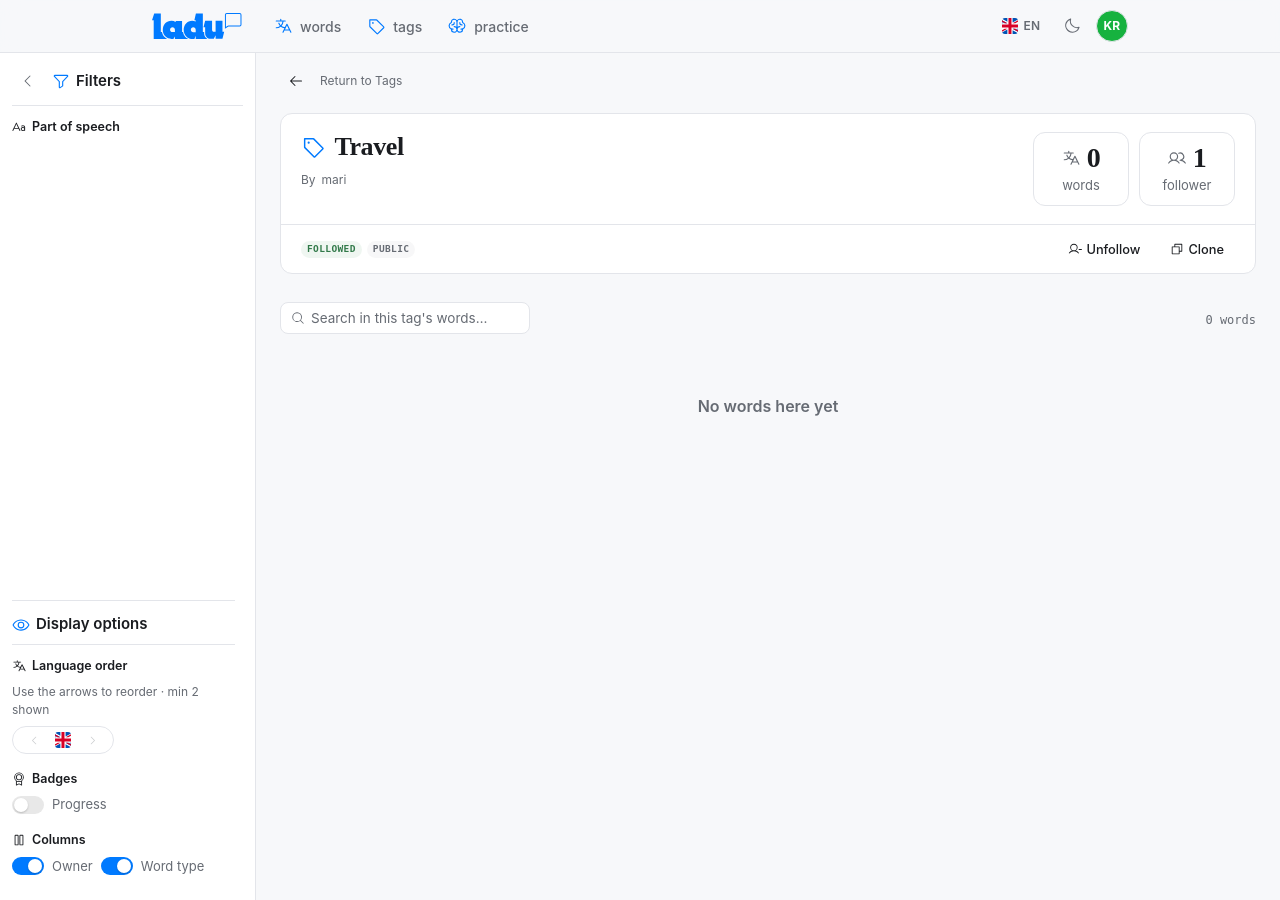
it: TagViewPage — followed tag › unfollowing asks for confirmation, then updates the relation to Discover
Expected: the text "Followed" is shown, x1=301 y1=241 x2=362 y2=258
Click the button "Unfollow": (1104, 249) x1=1057 y1=235 x2=1151 y2=263
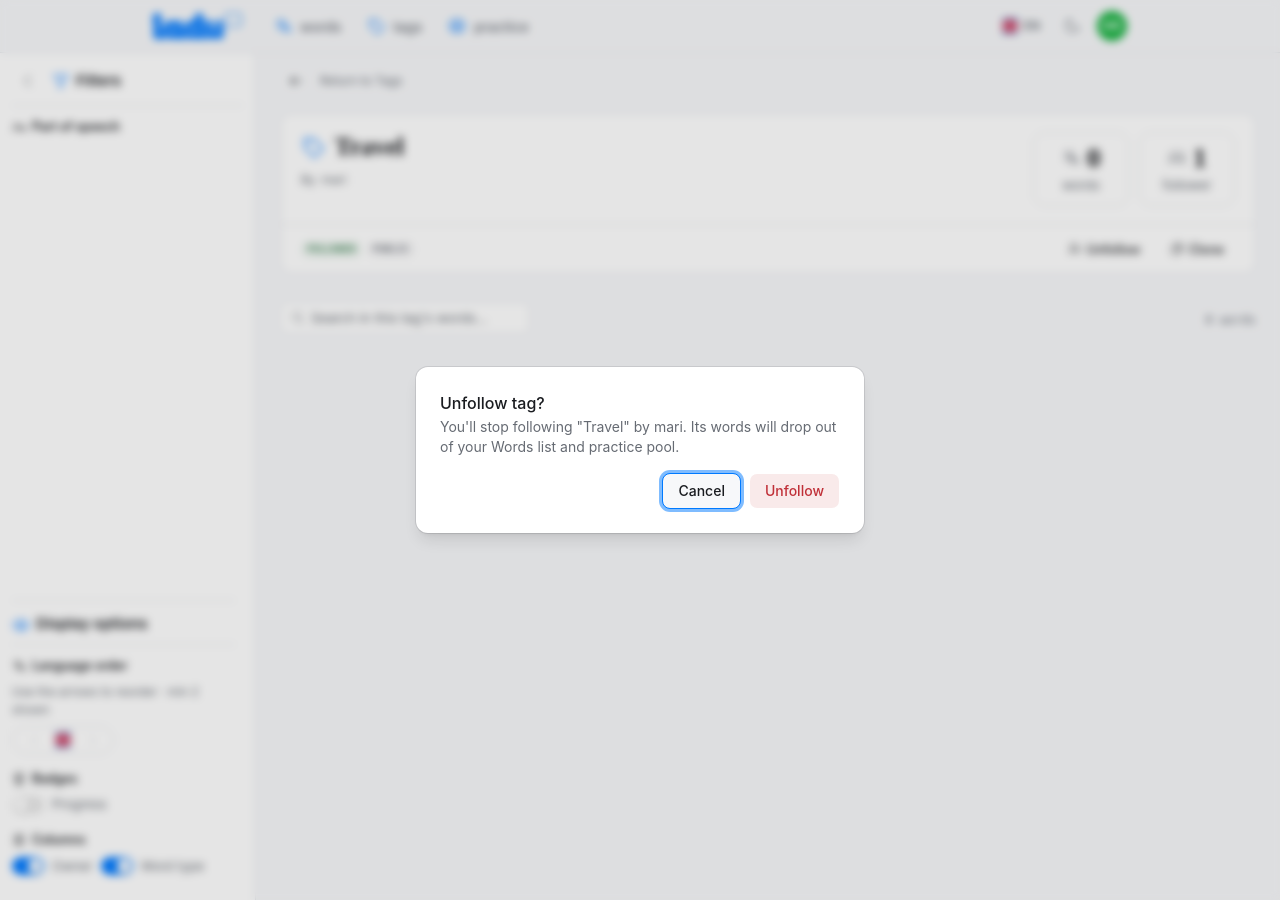
Now the heading "Unfollow tag?" is shown, box x1=440 y1=393 x2=545 y2=413
Click the button "Unfollow": (794, 491) x1=749 y1=473 x2=840 y2=509
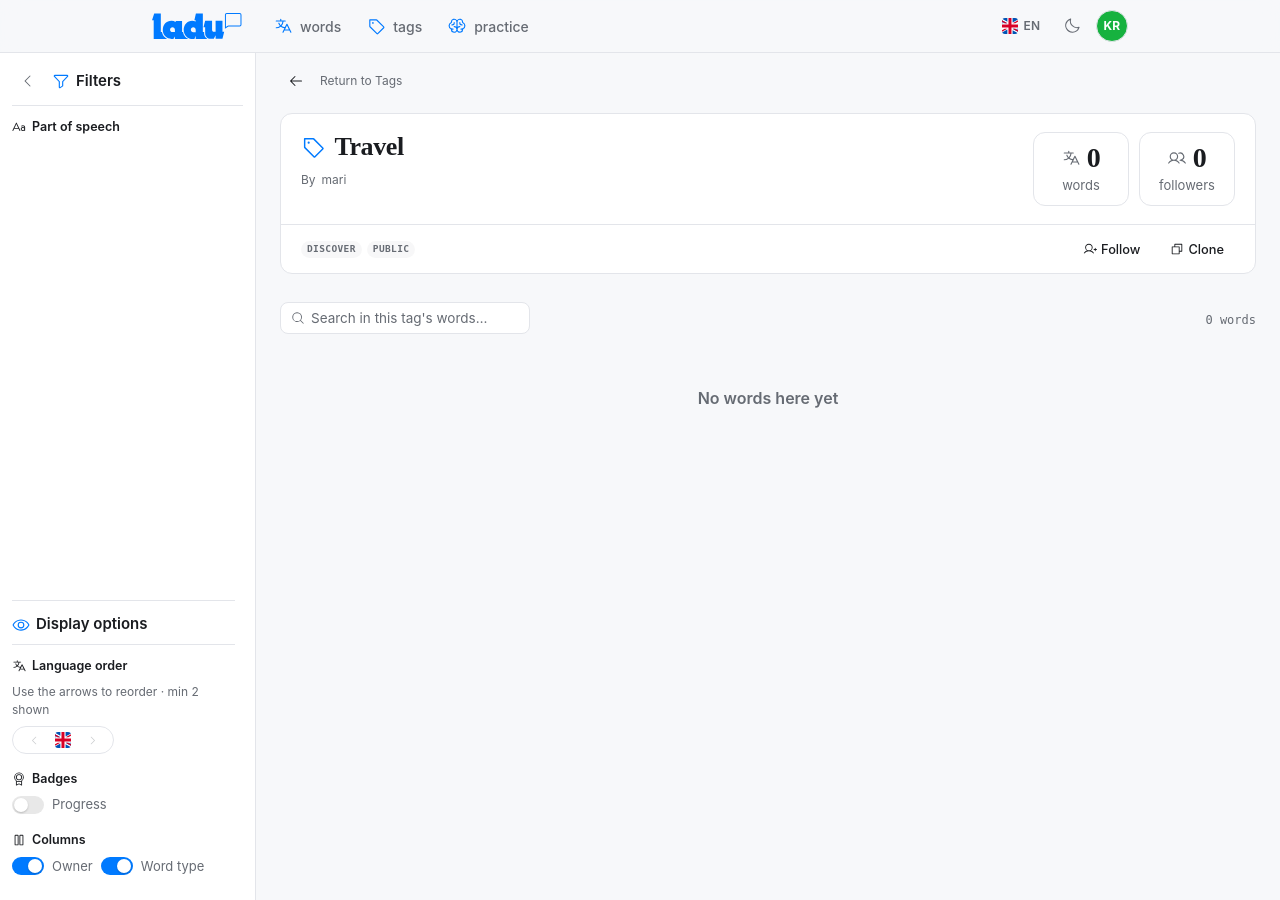
Now the text "Discover" is shown, box x1=301 y1=241 x2=362 y2=258
